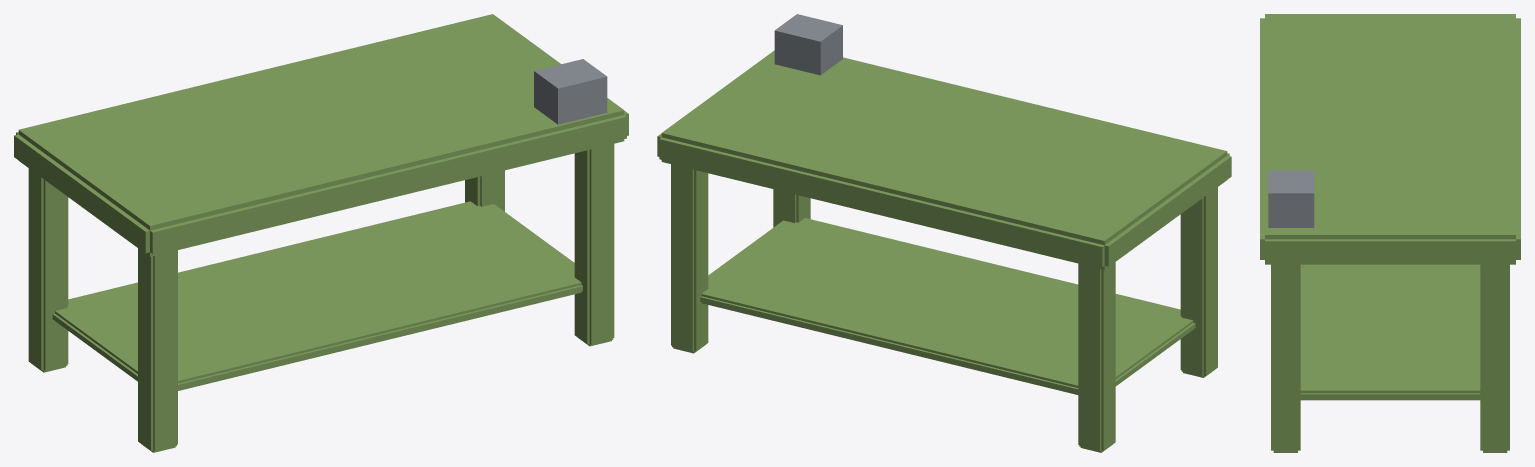
The model's file is cactus_workbench_v0.glb.
The picture shows the model from 3 angles, left to right: view 1: azimuth 30°, elevation 25°; view 2: azimuth 150°, elevation 25°; view 3: azimuth 270°, elevation 25°; orthographic projection. The views are drawn at different scales.
Parts seen in each view (by area): view 1: cactus_workbench_v0; view 2: cactus_workbench_v0; view 3: cactus_workbench_v0.
Part boxes in pixels (box(x1,y1,x2,y2)): cactus_workbench_v0: box(14, 14, 628, 452); cactus_workbench_v0: box(657, 14, 1231, 452); cactus_workbench_v0: box(1260, 14, 1520, 452).
Bounding box in the file's own units: 1.96 × 1.04 × 0.96.
